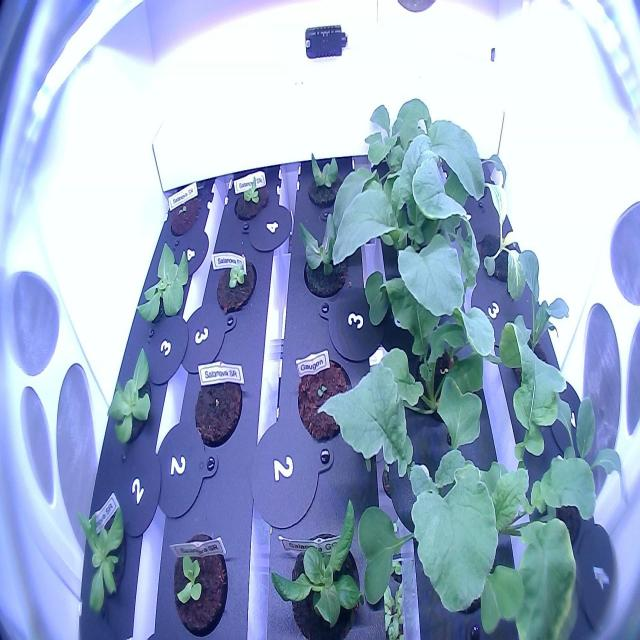germination: (293, 349, 355, 448), (162, 176, 206, 242)
pod: (188, 358, 248, 458)
young: (265, 480, 378, 640), (70, 492, 136, 623), (164, 525, 235, 639), (99, 340, 163, 454), (291, 199, 356, 307), (132, 231, 194, 333), (208, 246, 262, 320), (302, 145, 348, 218), (226, 173, 274, 229)
